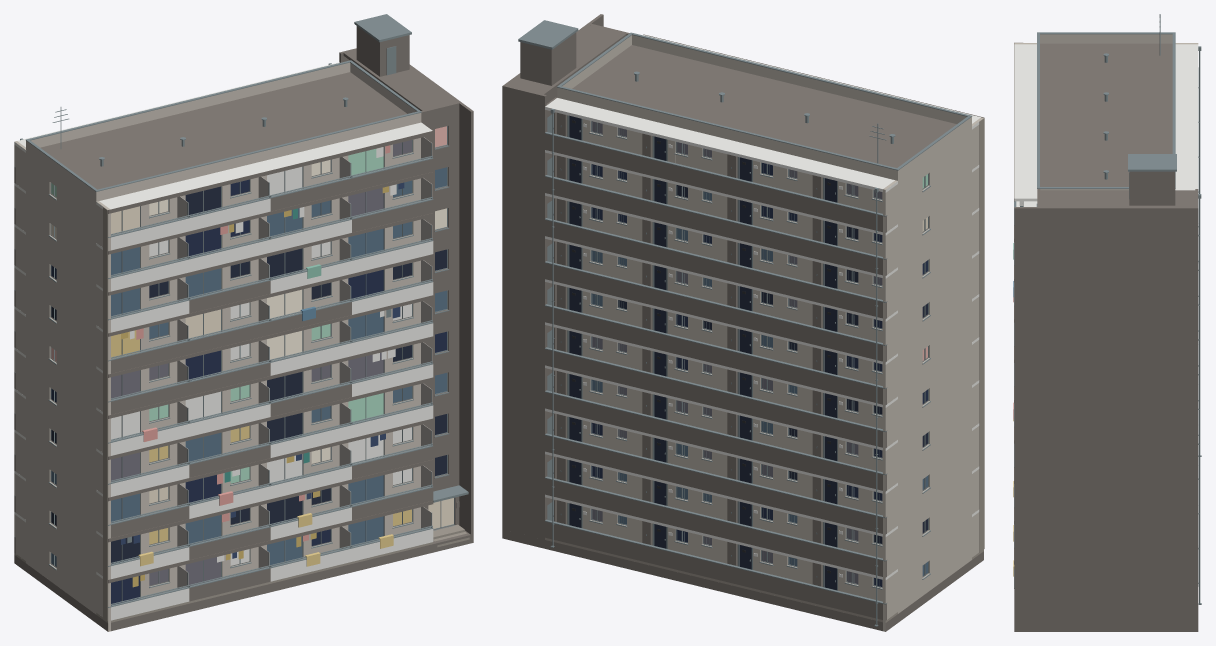
Rendered from tb_mansion_10f_01_c.fbx.
The picture shows the model from 3 angles, left to right: view 1: azimuth 30°, elevation 25°; view 2: azimuth 150°, elevation 25°; view 3: azimuth 270°, elevation 25°; orthographic projection. The views are drawn at different scales.
Visible parts, largest first — view 1: tb_mansion_10f_01_c; view 2: tb_mansion_10f_01_c; view 3: tb_mansion_10f_01_c.
Part boxes in pixels (box(x1,y1,x2,y2)): tb_mansion_10f_01_c: box(14, 14, 473, 631); tb_mansion_10f_01_c: box(502, 14, 984, 631); tb_mansion_10f_01_c: box(1013, 14, 1201, 631).
Size of what is drawn, in the model's own units: 27.05 by 33.1 by 12.25.
3 materials, 3 textured.
